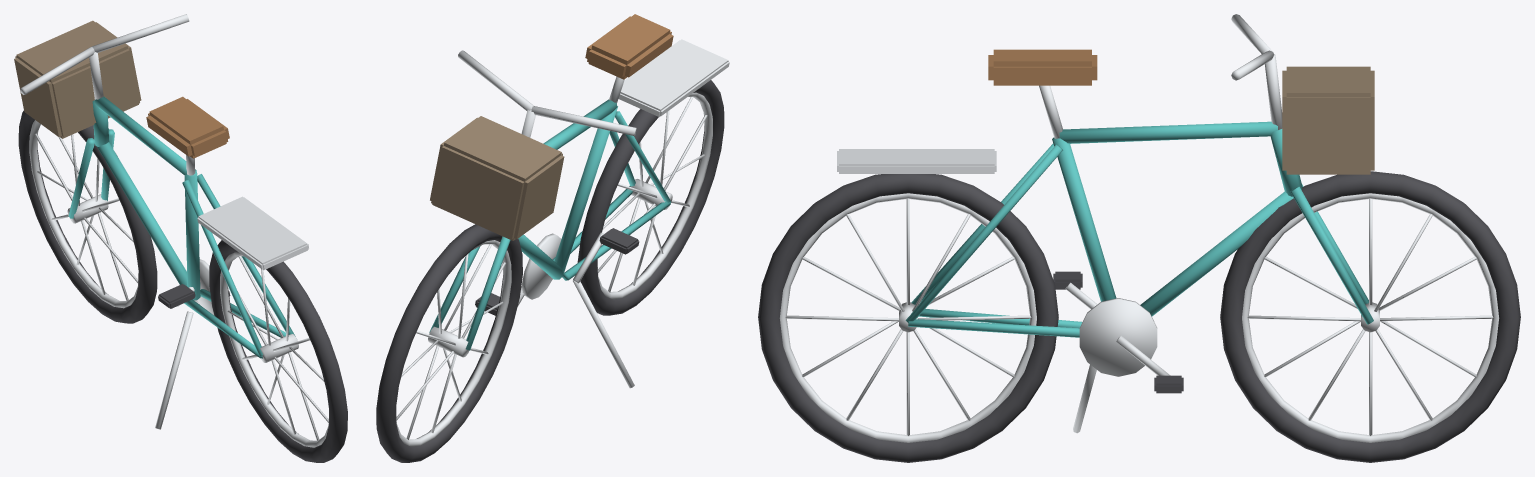
File: parked_bicycle.glb
3 views of the same model, side by side, from view 1: azimuth 30°, elevation 25°; view 2: azimuth 150°, elevation 25°; view 3: azimuth 270°, elevation 25° (orthographic). The views are drawn at different scales.
Parts seen in each view (by area): view 1: FrontBasket, BicyWheel_R_Tire, BicyWheel_F_Tire, RearRack, BicySaddle, DownTube, BicyWheel_F_Rim, BicyWheel_R_Rim, TopTube, SeatTube, SeatStay_-0.055, SeatStay_0.055 (+12 smaller); view 2: FrontBasket, BicyWheel_F_Tire, BicyWheel_R_Tire, RearRack, BicySaddle, BicyWheel_R_Rim, BicyWheel_F_Rim, SeatTube, ChainRing, FrontFork_-0.055, Bar_L, TopTube (+11 smaller); view 3: BicyWheel_R_Tire, BicyWheel_F_Tire, FrontBasket, BicyWheel_F_Rim, BicyWheel_R_Rim, ChainRing, RearRack, BicySaddle, TopTube, DownTube, SeatTube, SeatStay_0.055 (+5 smaller).
Boxes of the visible parts, left/top/right/bottom form: FrontBasket: left=14, top=20, right=141, bottom=138; BicyWheel_R_Tire: left=209, top=240, right=347, bottom=462; BicyWheel_F_Tire: left=18, top=110, right=157, bottom=323; RearRack: left=197, top=196, right=308, bottom=269; BicySaddle: left=146, top=96, right=229, bottom=158; DownTube: left=97, top=142, right=187, bottom=286; BicyWheel_F_Rim: left=29, top=120, right=138, bottom=308; BicyWheel_R_Rim: left=220, top=252, right=328, bottom=447; TopTube: left=94, top=96, right=195, bottom=174; SeatTube: left=184, top=170, right=200, bottom=300; SeatStay_-0.055: left=182, top=180, right=262, bottom=356; SeatStay_0.055: left=197, top=174, right=295, bottom=336; FrontBasket: left=430, top=116, right=564, bottom=240; BicyWheel_F_Tire: left=376, top=224, right=522, bottom=462; BicyWheel_R_Tire: left=577, top=80, right=724, bottom=315; RearRack: left=618, top=39, right=729, bottom=116; BicySaddle: left=585, top=14, right=673, bottom=79; BicyWheel_R_Rim: left=597, top=92, right=712, bottom=299; BicyWheel_F_Rim: left=396, top=240, right=511, bottom=446; SeatTube: left=554, top=106, right=617, bottom=273; ChainRing: left=522, top=233, right=561, bottom=299; FrontFork_-0.055: left=465, top=236, right=510, bottom=350; Bar_L: left=531, top=106, right=636, bottom=135; TopTube: left=543, top=99, right=617, bottom=149; BicyWheel_R_Tire: left=758, top=174, right=1058, bottom=462; BicyWheel_F_Tire: left=1220, top=171, right=1520, bottom=462; FrontBasket: left=1282, top=66, right=1374, bottom=174; BicyWheel_F_Rim: left=1242, top=193, right=1499, bottom=442; BicyWheel_R_Rim: left=779, top=193, right=1036, bottom=442; ChainRing: left=1079, top=298, right=1157, bottom=376; RearRack: left=837, top=149, right=996, bottom=173; BicySaddle: left=988, top=49, right=1097, bottom=85; TopTube: left=1059, top=121, right=1277, bottom=143; DownTube: left=1140, top=191, right=1293, bottom=316; SeatTube: left=1052, top=137, right=1116, bottom=301; SeatStay_0.055: left=905, top=144, right=1062, bottom=322.
Bounding box in the file's own units: 0.5843 × 1.1 × 1.82.
